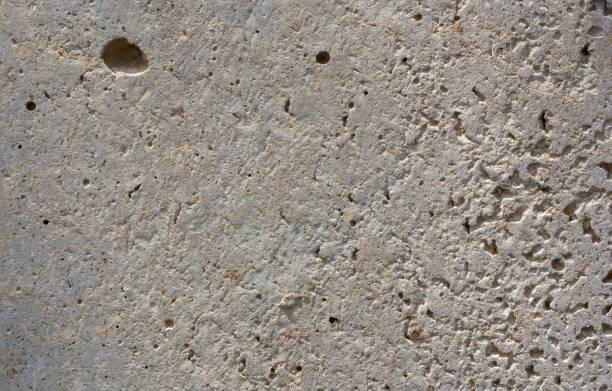Spalling: (341, 1, 612, 391), (99, 35, 153, 76), (314, 50, 331, 64), (24, 99, 37, 112)
